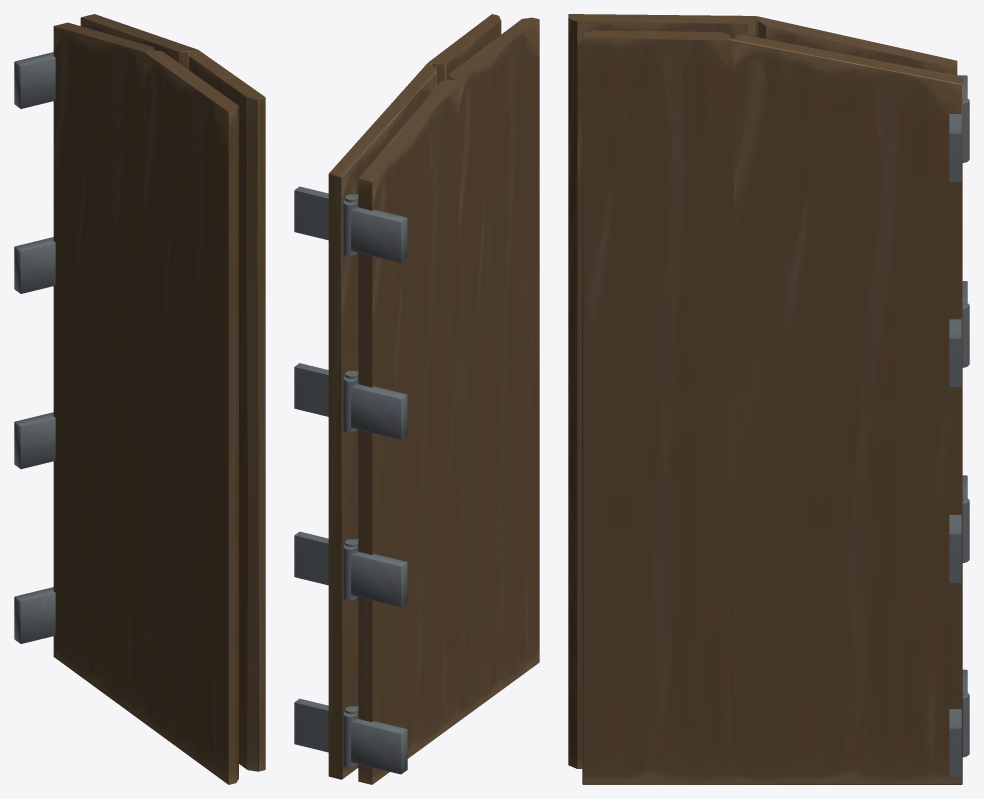
The model's file is portao-castelo_L_e_R.fbx.
The picture shows the model from 3 angles, left to right: view 1: azimuth 30°, elevation 25°; view 2: azimuth 150°, elevation 25°; view 3: azimuth 270°, elevation 25°; orthographic projection. The views are drawn at different scales.
Parts seen in each view (by area): view 1: portao_castelo.R, portao_castelo.L; view 2: portao_castelo.R, portao_castelo.L; view 3: portao_castelo.L, portao_castelo.R.
Boxes of the visible parts, left/top/right/bottom form: portao_castelo.R: left=53, top=22, right=238, bottom=784; portao_castelo.L: left=14, top=14, right=265, bottom=771; portao_castelo.R: left=294, top=17, right=539, bottom=784; portao_castelo.L: left=328, top=14, right=501, bottom=779; portao_castelo.L: left=582, top=30, right=969, bottom=784; portao_castelo.R: left=568, top=14, right=963, bottom=776.
Size of the model in its own units: 99.5 by 558 by 271.
